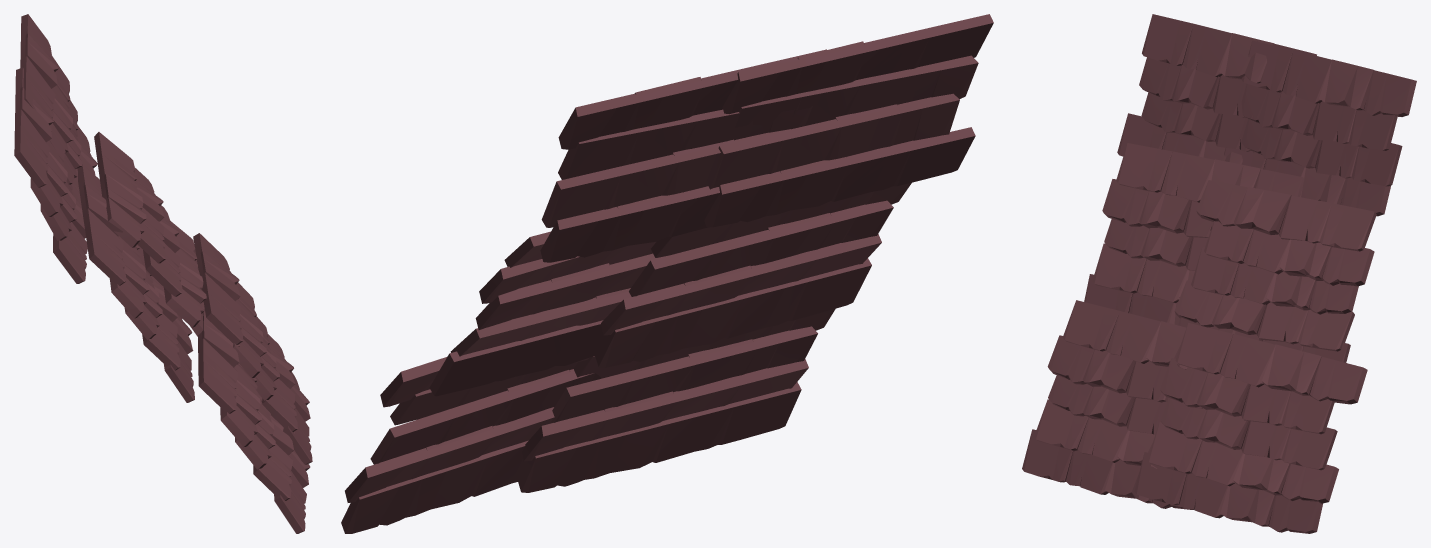
Rendered from RedRightRoofBack.fbx.
3 renders of one model, left to right at view 1: azimuth 30°, elevation 25°; view 2: azimuth 150°, elevation 25°; view 3: azimuth 270°, elevation 25°, orthographic. The views are drawn at different scales.
Visible parts, largest first — view 1: RedRightRoofBack_Merged; view 2: RedRightRoofBack_Merged; view 3: RedRightRoofBack_Merged.
Part boxes in pixels (left/top/right/bottom): RedRightRoofBack_Merged: left=14, top=14, right=312, bottom=533; RedRightRoofBack_Merged: left=341, top=14, right=993, bottom=533; RedRightRoofBack_Merged: left=1022, top=14, right=1416, bottom=533.
Bounding box in the file's own units: 580 × 594 × 580.
